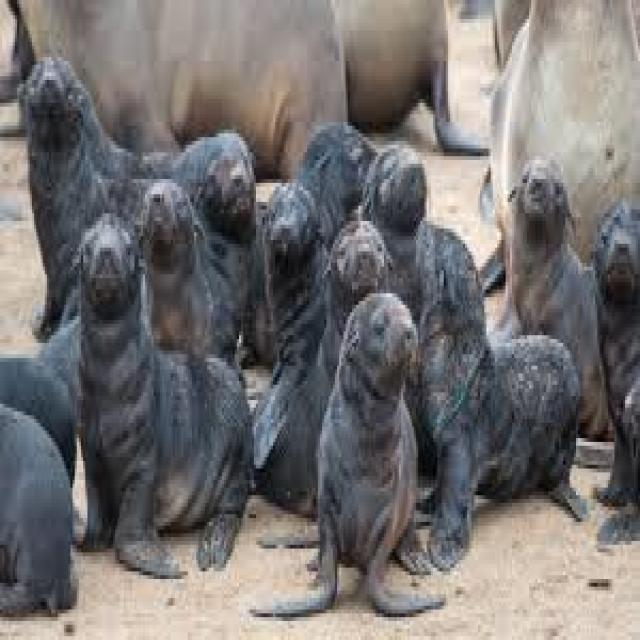seal: (401, 221, 582, 568), (79, 213, 250, 575), (254, 293, 439, 610), (260, 217, 388, 514), (21, 57, 147, 335), (497, 160, 606, 430), (254, 183, 324, 465), (171, 133, 254, 358), (141, 179, 237, 358), (593, 202, 638, 537), (358, 145, 425, 316), (299, 122, 373, 248)
